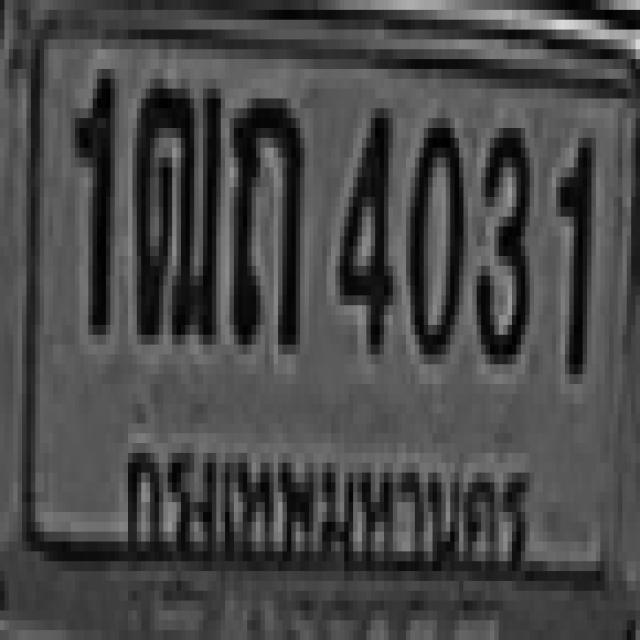0: (406, 108, 459, 354)
1: (71, 64, 110, 330), (556, 128, 592, 364)
27ThorPhuThao: (132, 69, 216, 335)
3: (472, 118, 526, 355)
31ThorThung: (230, 88, 300, 344)
4: (336, 98, 388, 344)
Bangkok: (109, 410, 537, 576)
